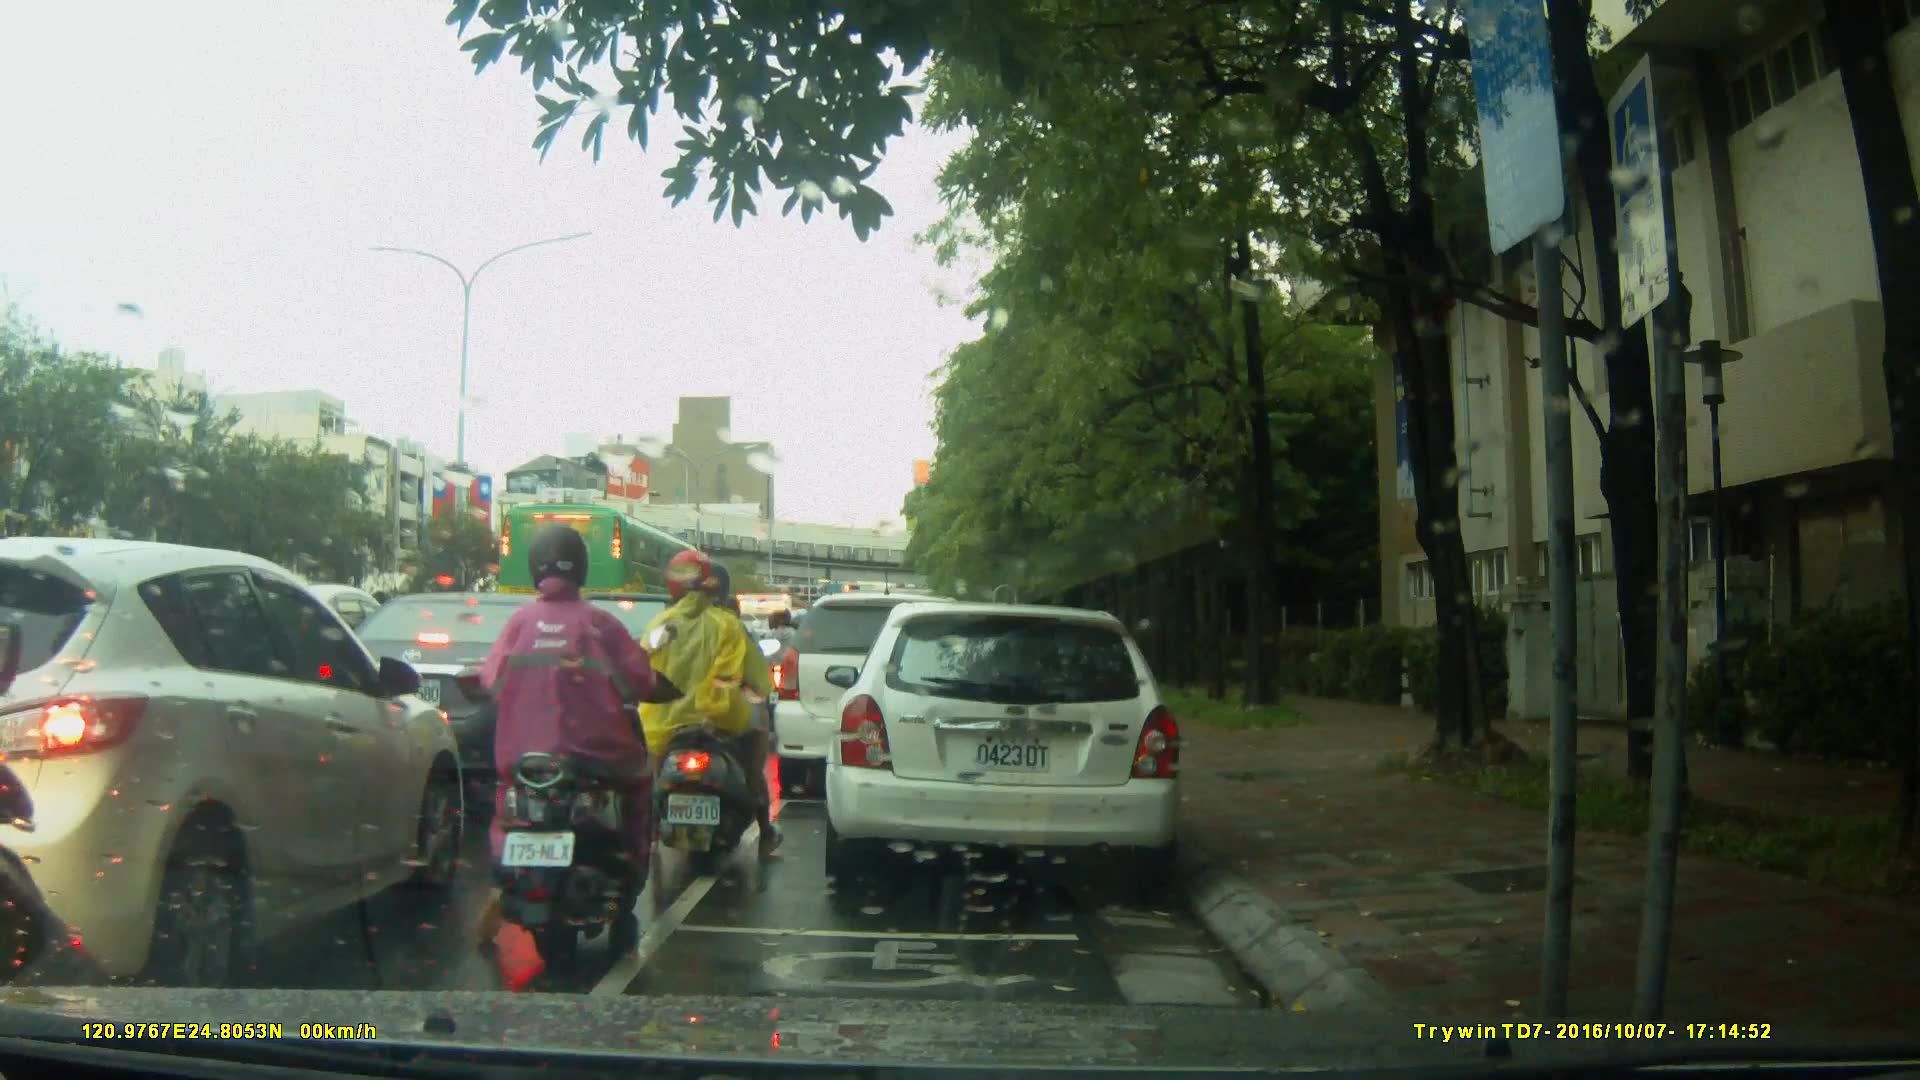rider: (487, 534, 654, 962), (635, 545, 784, 862), (706, 589, 787, 764), (757, 603, 810, 732)
vehicle: (5, 536, 468, 988), (831, 592, 1196, 897), (317, 589, 629, 776), (770, 590, 999, 804), (496, 500, 711, 636)
